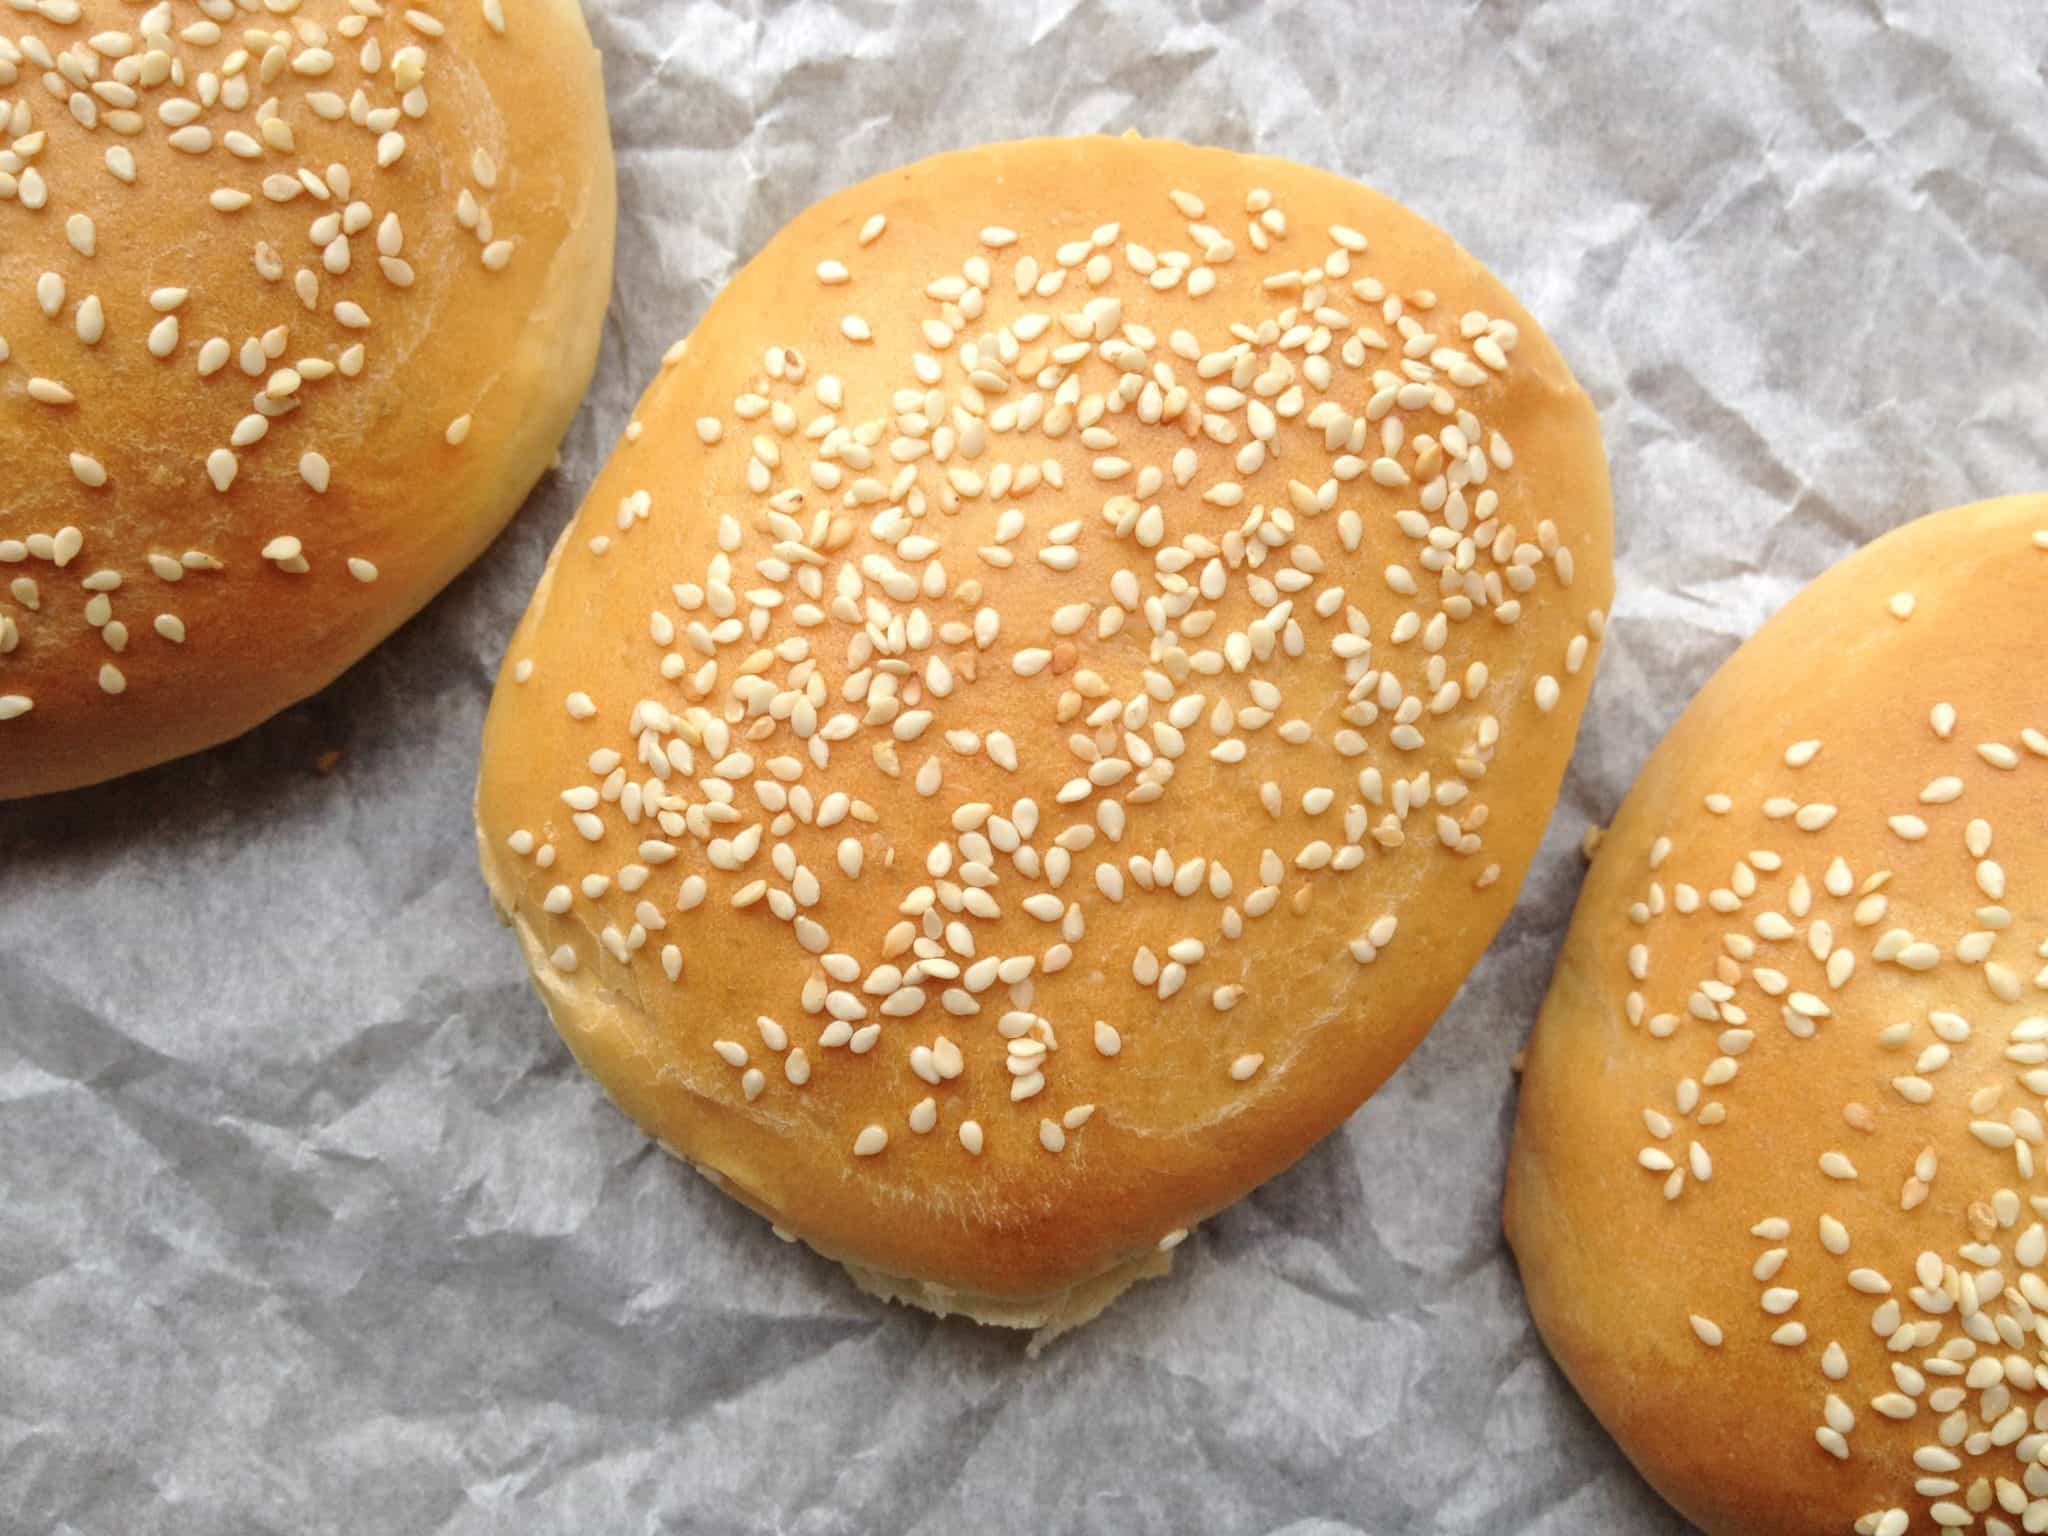hamburger_buns: (447, 97, 1677, 1339), (1509, 497, 2048, 1536), (2, 27, 718, 694)
